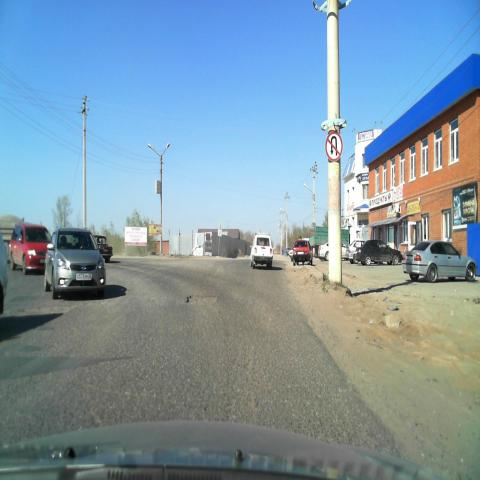3_19: (324, 131, 344, 163)
